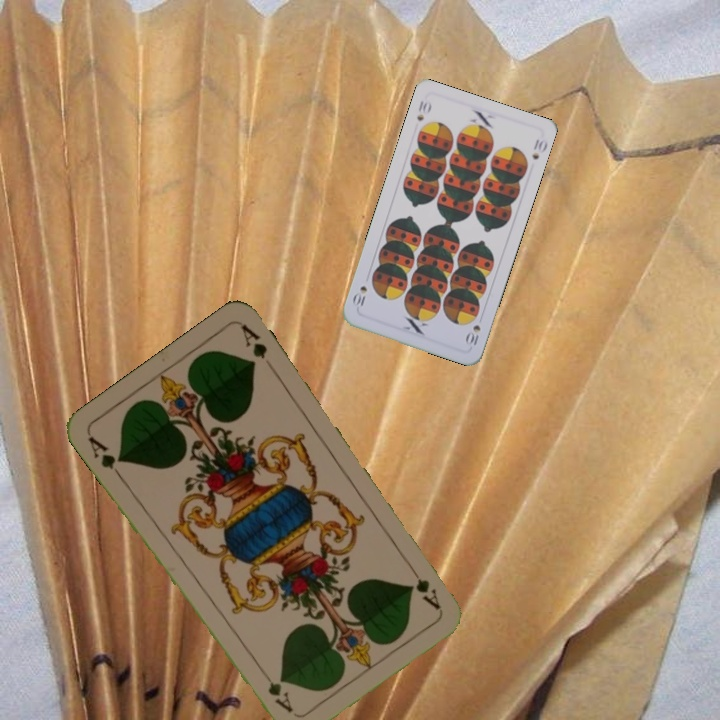GA: (84, 432, 127, 482), (404, 559, 443, 612)
S10: (462, 321, 483, 349), (413, 97, 434, 124)
